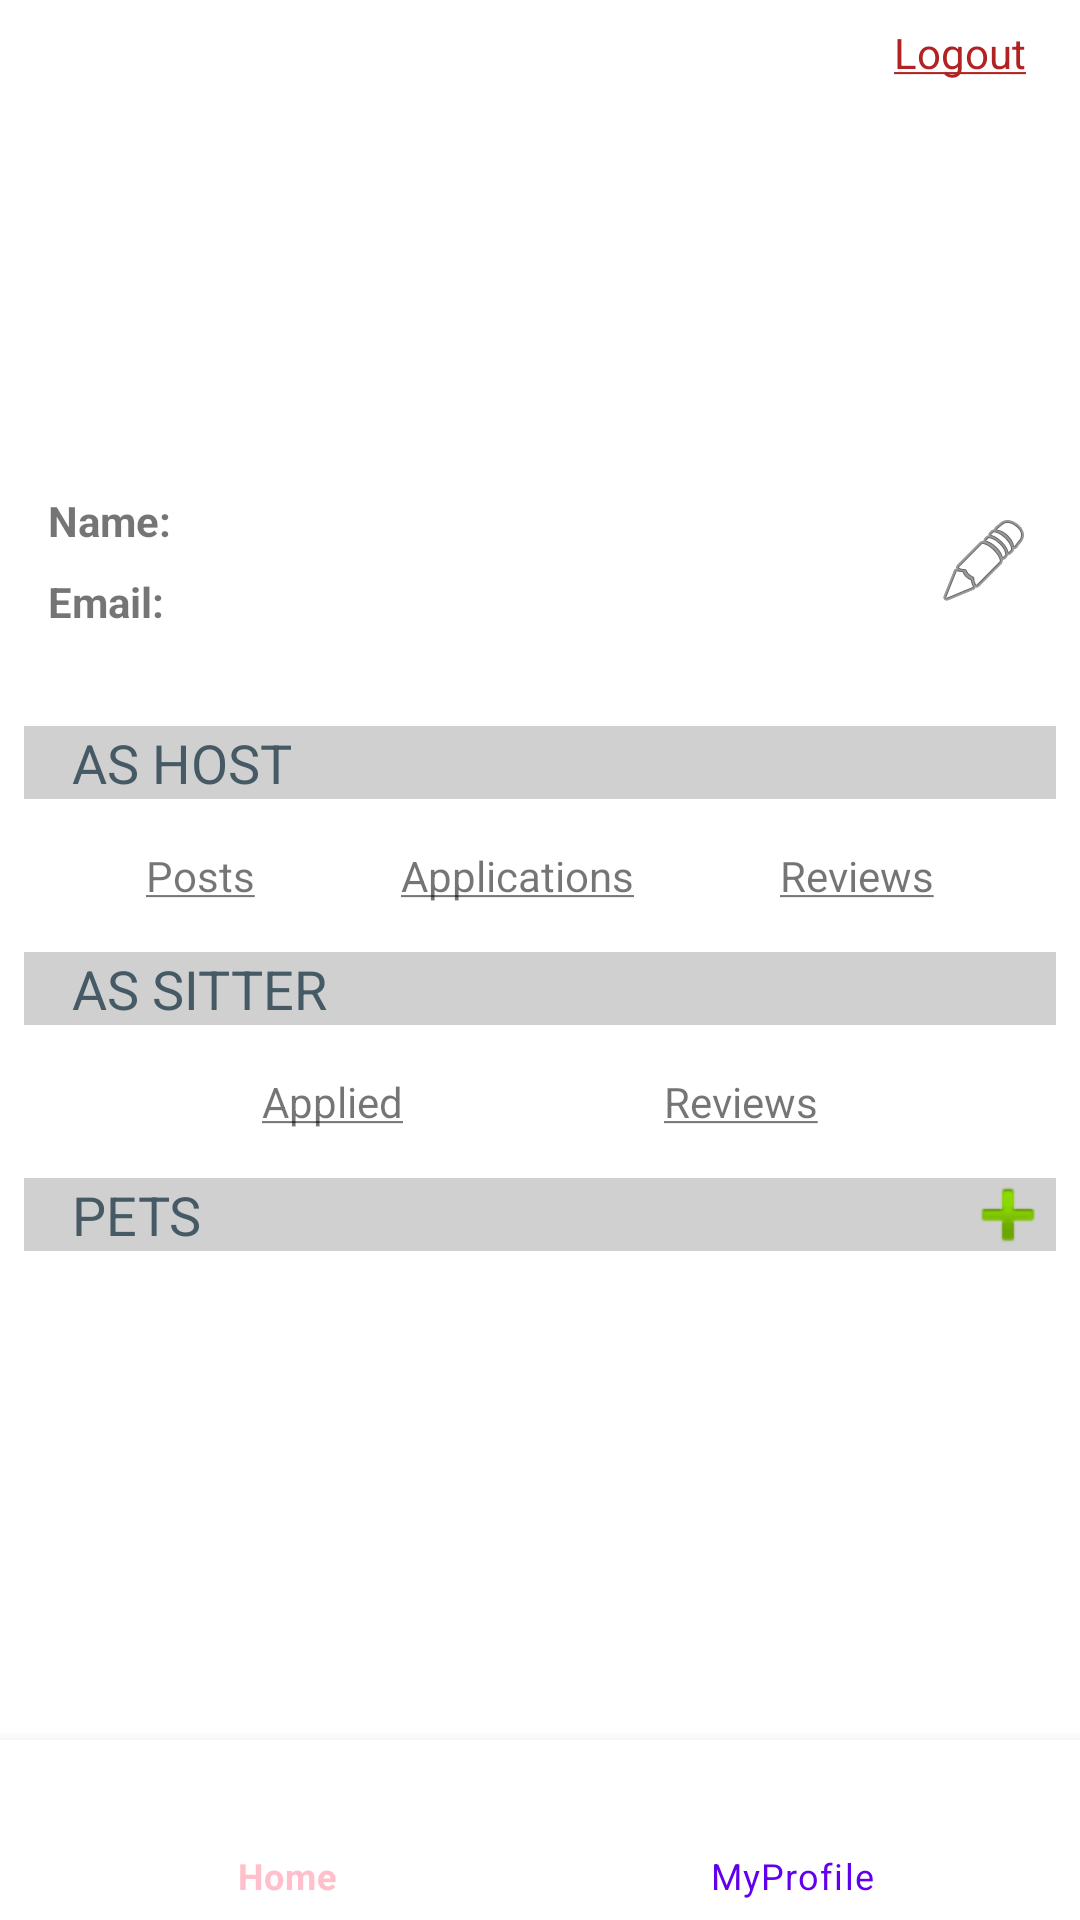

Icons on this 1080px x 1920px Android screen, each with the point to tap as (x,y):
add: (1008,1214)
edit: (983,560)
